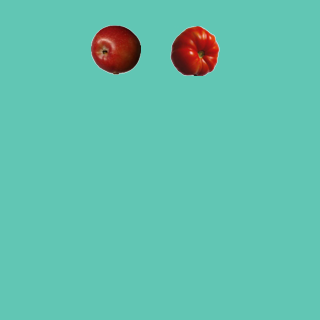Apple Braeburn: (90, 24, 140, 74)
Tomato 3: (169, 25, 219, 75)
